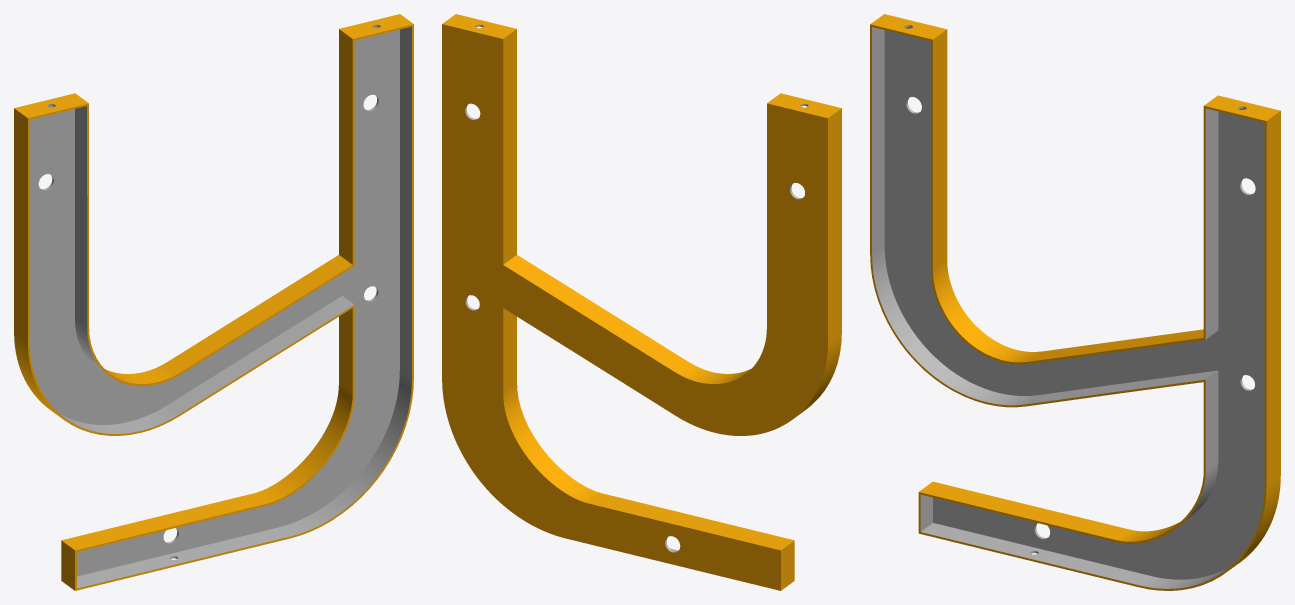
The model's file is BACK02.glb.
3 views of the same model, side by side, from view 1: azimuth 30°, elevation 25°; view 2: azimuth 150°, elevation 25°; view 3: azimuth 330°, elevation 25° (orthographic). The views are drawn at different scales.
Visible parts, largest first — view 1: back02; view 2: back02; view 3: back02.
Part boxes in pixels (x1,y1,x2,y2): back02: [14, 14, 413, 590]; back02: [442, 14, 841, 590]; back02: [870, 14, 1280, 590].
Size of the model in its own units: 40.26 by 48.25 by 2.5.
